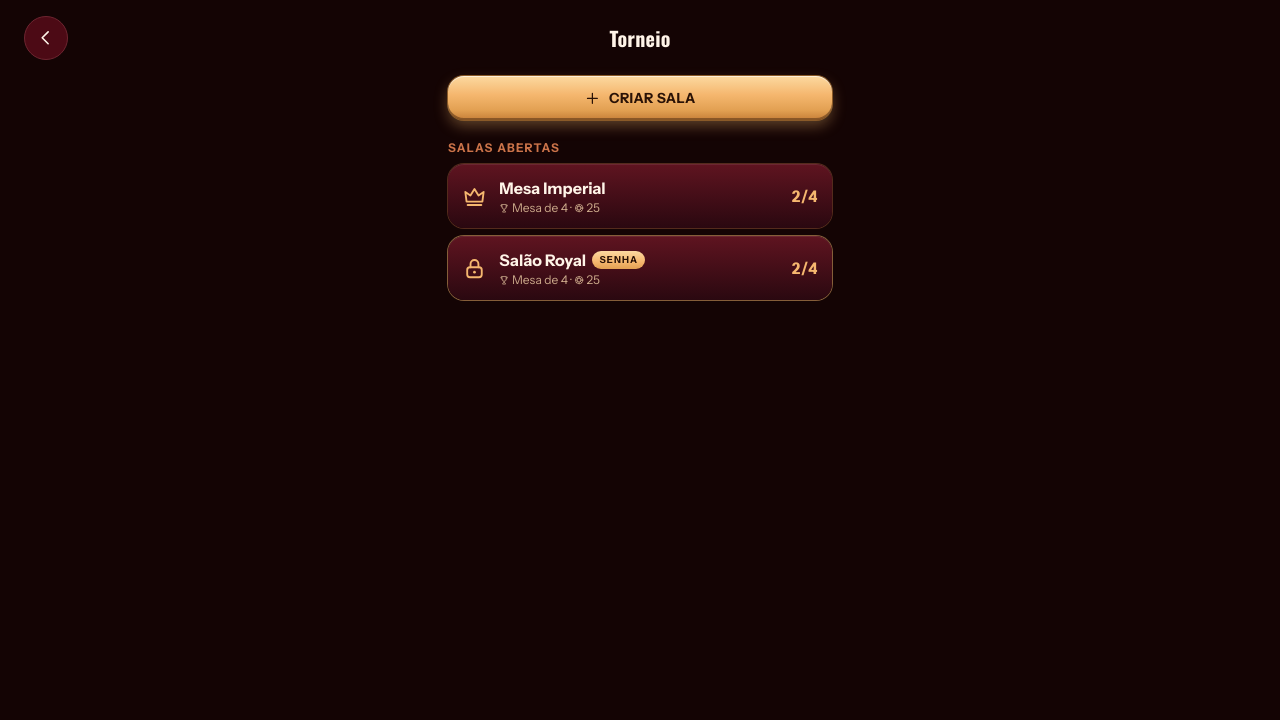
Test: confirmação de entrada na sala › sala privada: senha errada não destranca nem pergunta nada
Click the button "Salão Royal Senha Mesa de 4 · 25 2/4": (640, 268) 448,236 -> 832,300
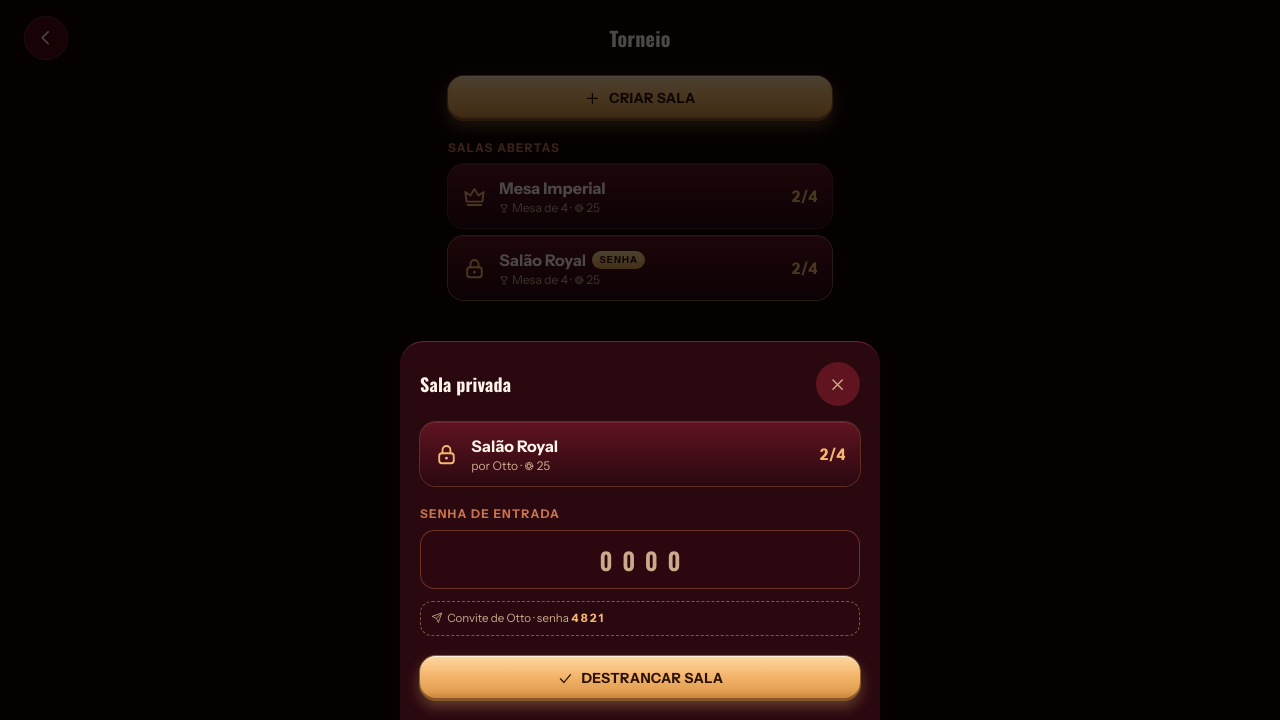
In the field with test id "join-password": (640, 560) 420,530 -> 860,589, type "1111"
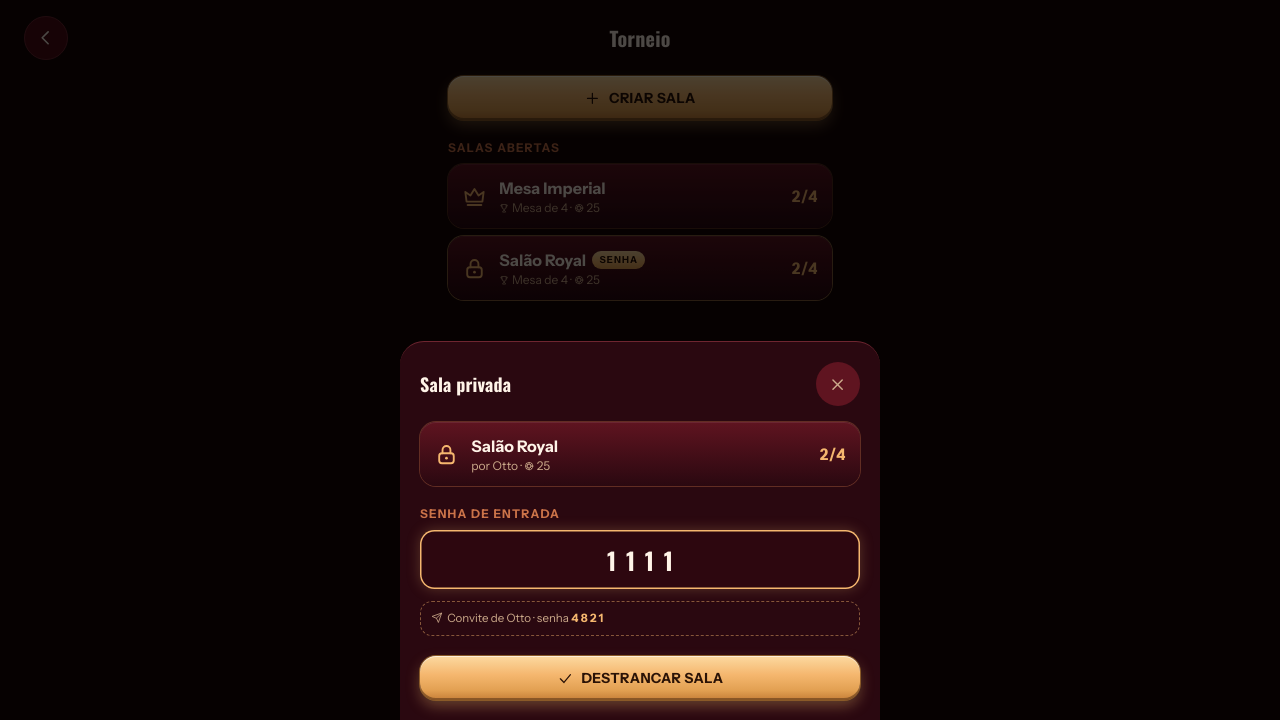
Click the button with test id "join-confirm": (640, 678) 420,656 -> 860,700
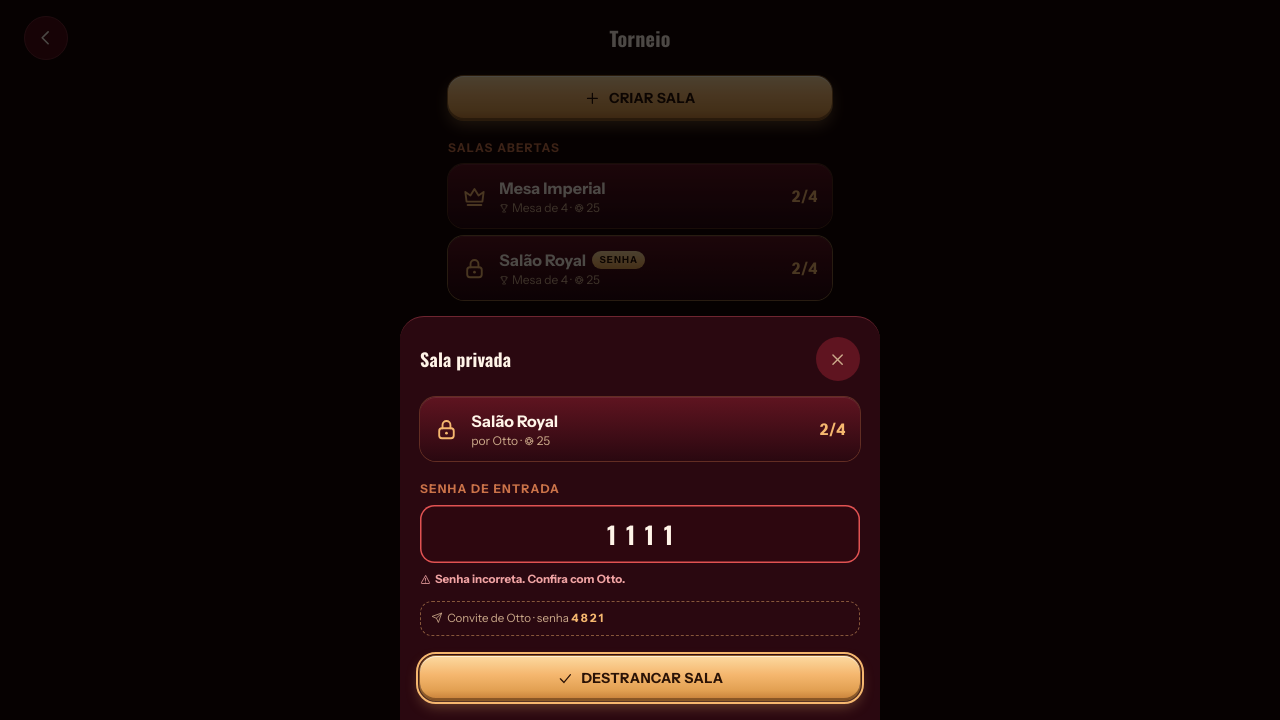
Expected: the message "Senha incorreta. Confira com Otto." is shown, 420,572 -> 625,586
